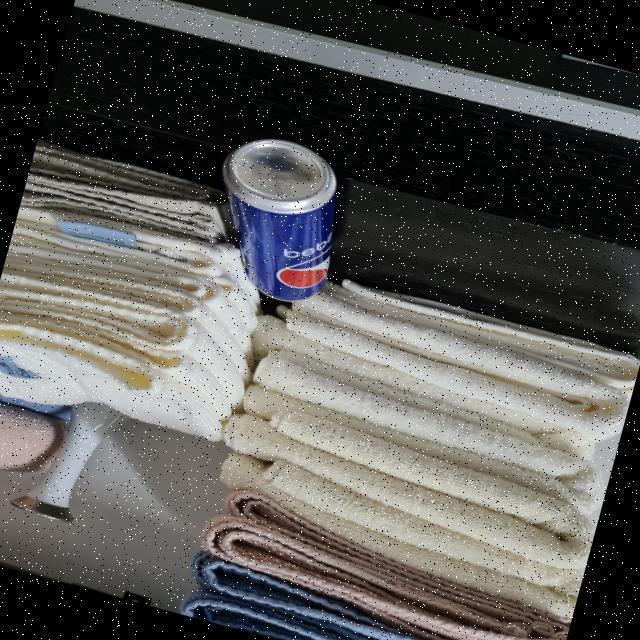can: (186, 125, 371, 318)
